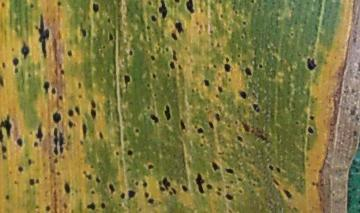tarspot: (35, 13, 51, 60), (1, 112, 13, 144), (252, 127, 270, 144), (34, 121, 45, 145), (194, 172, 205, 194), (20, 41, 31, 61), (157, 1, 168, 21), (52, 127, 59, 158), (122, 73, 133, 90), (58, 129, 65, 155), (173, 21, 185, 36), (240, 120, 252, 135), (77, 23, 88, 39), (184, 1, 196, 15), (306, 57, 318, 71), (51, 111, 62, 125), (148, 113, 160, 125), (81, 169, 92, 182), (81, 122, 88, 142), (62, 181, 72, 195), (163, 104, 171, 121), (41, 80, 50, 95), (126, 189, 138, 200), (210, 160, 221, 172), (250, 102, 261, 114), (282, 188, 293, 200), (106, 182, 116, 195), (270, 176, 281, 187), (85, 201, 97, 211), (162, 176, 170, 191), (90, 2, 100, 13), (237, 90, 248, 100), (73, 105, 82, 117), (171, 49, 179, 62), (26, 157, 36, 167), (243, 67, 253, 77), (89, 109, 98, 120), (306, 125, 315, 136), (15, 136, 23, 148), (11, 57, 20, 67), (96, 131, 105, 141), (223, 63, 232, 73), (89, 98, 97, 109), (170, 31, 178, 42), (207, 120, 215, 131), (107, 30, 114, 42), (1, 144, 9, 154), (27, 177, 35, 187), (94, 175, 102, 185), (224, 193, 234, 201), (65, 141, 72, 152), (179, 119, 186, 130), (66, 49, 74, 58), (66, 109, 74, 118), (149, 14, 158, 22), (168, 61, 176, 70), (181, 184, 189, 193), (216, 85, 224, 94), (235, 135, 244, 143), (50, 86, 57, 96), (34, 176, 41, 186), (224, 167, 234, 174), (53, 67, 59, 78), (214, 112, 220, 123), (61, 201, 69, 209), (149, 54, 157, 62), (126, 148, 134, 156), (141, 180, 149, 188), (142, 191, 150, 199), (196, 127, 204, 135), (267, 163, 275, 171), (275, 166, 283, 174), (1, 154, 10, 161), (308, 114, 317, 121), (66, 120, 72, 130), (1, 74, 5, 88), (12, 67, 20, 74), (4, 193, 11, 201), (17, 165, 24, 173), (44, 204, 51, 212), (99, 202, 107, 209), (133, 128, 141, 135), (119, 192, 126, 200), (205, 183, 212, 191), (203, 79, 210, 87), (240, 20, 248, 27), (288, 31, 296, 38), (105, 16, 111, 25), (76, 81, 82, 90), (128, 48, 134, 57), (151, 72, 157, 81), (170, 187, 176, 196), (352, 129, 358, 138), (57, 94, 64, 101), (54, 169, 61, 176), (89, 188, 96, 195), (147, 198, 154, 205), (224, 56, 231, 63), (257, 63, 264, 70), (55, 1, 63, 7), (58, 154, 66, 160), (125, 167, 133, 173), (158, 185, 164, 193), (217, 150, 225, 156), (196, 29, 204, 35), (209, 41, 215, 49), (1, 61, 7, 68), (100, 43, 106, 50), (59, 69, 66, 75), (57, 62, 63, 69), (12, 180, 19, 186), (177, 64, 183, 71), (216, 186, 223, 192), (219, 13, 225, 20), (225, 123, 231, 130), (310, 180, 316, 187), (72, 121, 77, 129), (146, 164, 154, 169), (29, 3, 35, 9), (26, 72, 32, 78), (77, 93, 83, 99), (34, 204, 40, 210), (66, 134, 72, 140), (43, 175, 49, 181), (145, 82, 151, 88), (134, 181, 140, 187), (164, 46, 170, 52), (157, 180, 163, 186), (215, 42, 221, 48), (198, 23, 204, 29), (239, 34, 245, 40), (233, 119, 239, 125), (190, 87, 196, 93), (294, 120, 300, 126), (317, 168, 323, 174), (251, 182, 257, 188), (1, 2, 6, 9), (28, 130, 33, 137), (68, 208, 75, 213), (114, 150, 119, 157), (146, 1, 153, 6), (168, 190, 173, 197), (215, 191, 222, 196), (209, 28, 214, 35), (255, 7, 262, 12), (10, 46, 15, 52), (33, 141, 38, 147), (8, 170, 13, 176), (52, 158, 58, 163), (41, 161, 46, 167), (117, 202, 123, 207), (145, 25, 151, 30), (165, 73, 171, 78), (238, 189, 244, 194), (237, 177, 243, 182), (224, 185, 230, 190), (212, 63, 217, 69), (227, 77, 232, 83), (236, 53, 242, 58), (199, 8, 204, 14), (233, 9, 238, 15), (231, 4, 236, 10), (172, 1, 181, 4), (47, 155, 52, 160), (89, 164, 94, 169), (146, 105, 151, 110), (147, 37, 152, 42), (199, 143, 204, 148), (200, 134, 205, 139), (229, 180, 235, 184), (249, 1, 256, 4), (153, 92, 157, 96), (217, 1, 222, 3)
